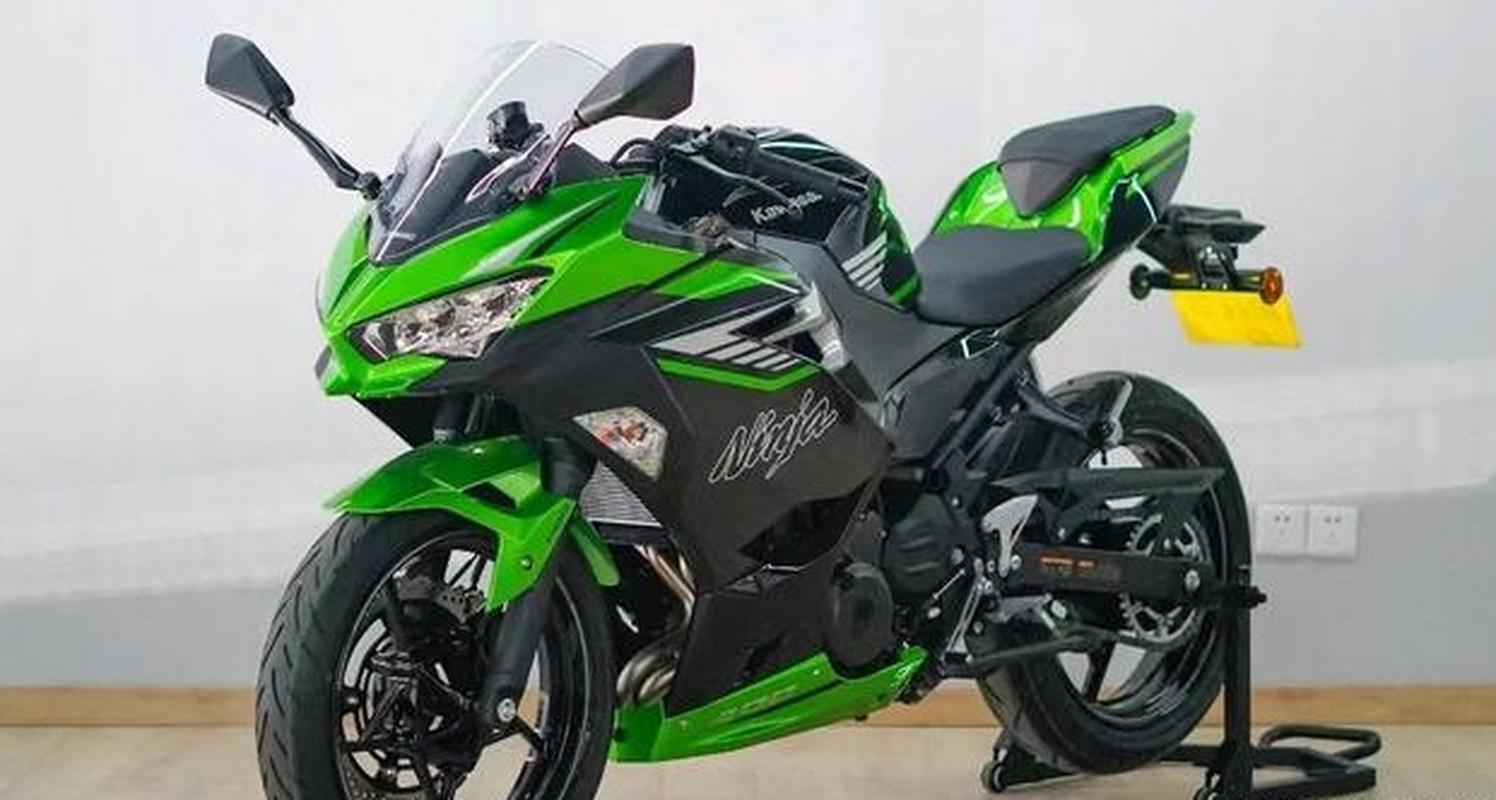摩托车: (194, 21, 1385, 800)
